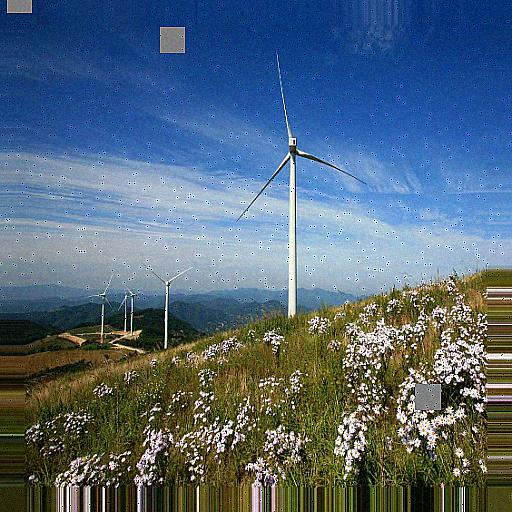wind turbine: (235, 50, 369, 310), (144, 261, 194, 360), (88, 273, 114, 346)
